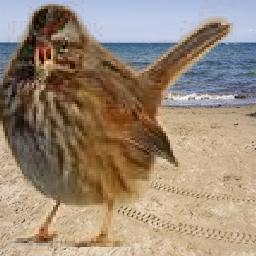Sparrow: (0, 1, 236, 247)
